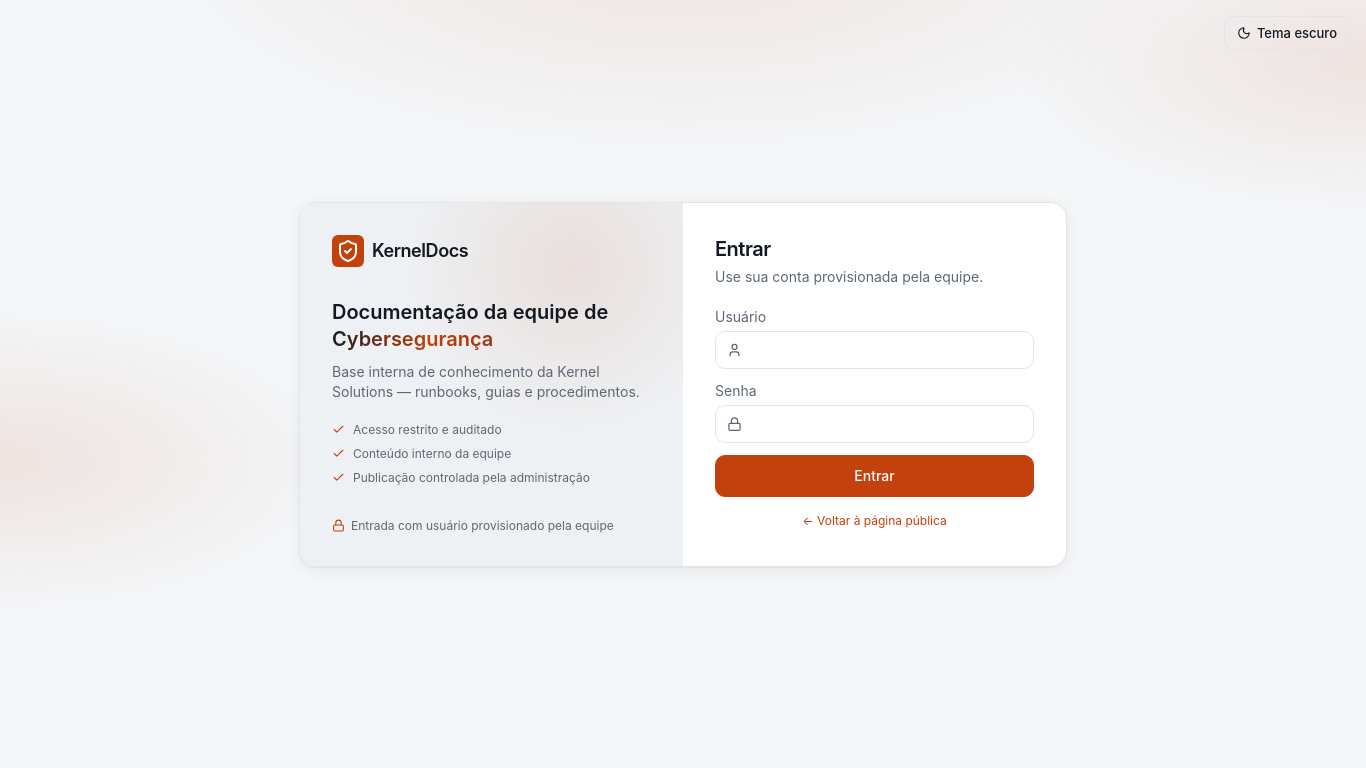
LoginPage › falha de rede vira mensagem amigável
The width and height of the screenshot is (1366, 768).
Type "felipe.rosa" into the field labelled "Usuário".
click(874, 350); type("felipe.rosa")  # box [715,330,1034,368]
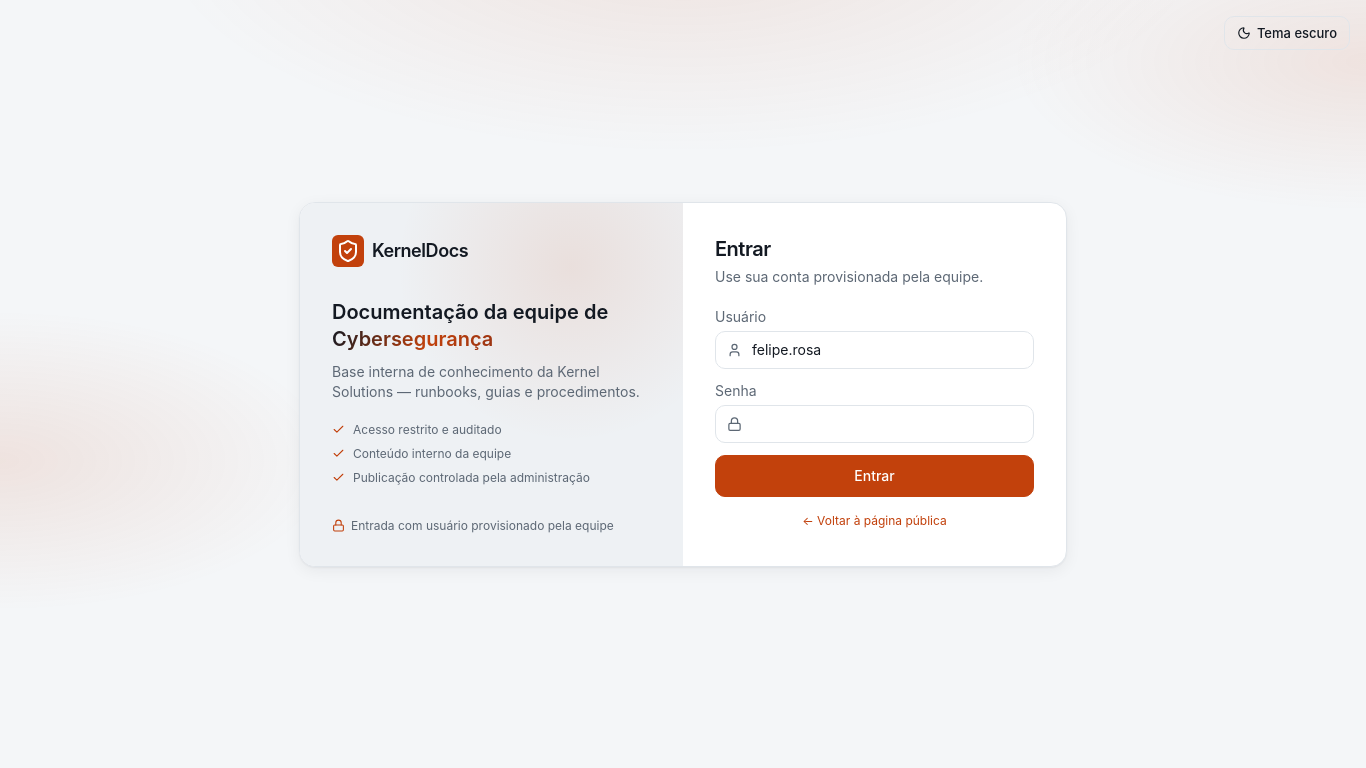
Type "qualquer" into the password field labelled "Senha".
click(874, 424); type("qualquer")  # box [715,404,1034,442]
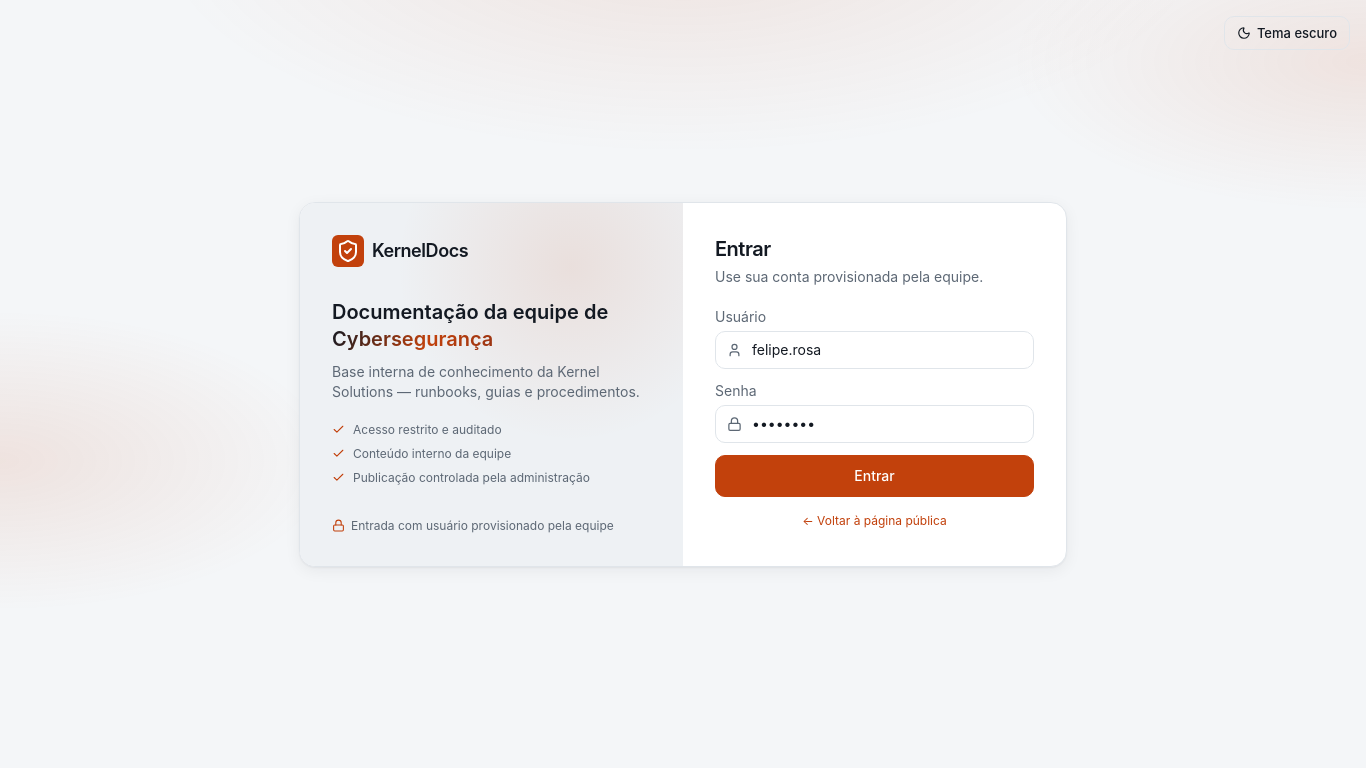
Click the button "Entrar".
click(874, 476)  # box [715,454,1034,496]
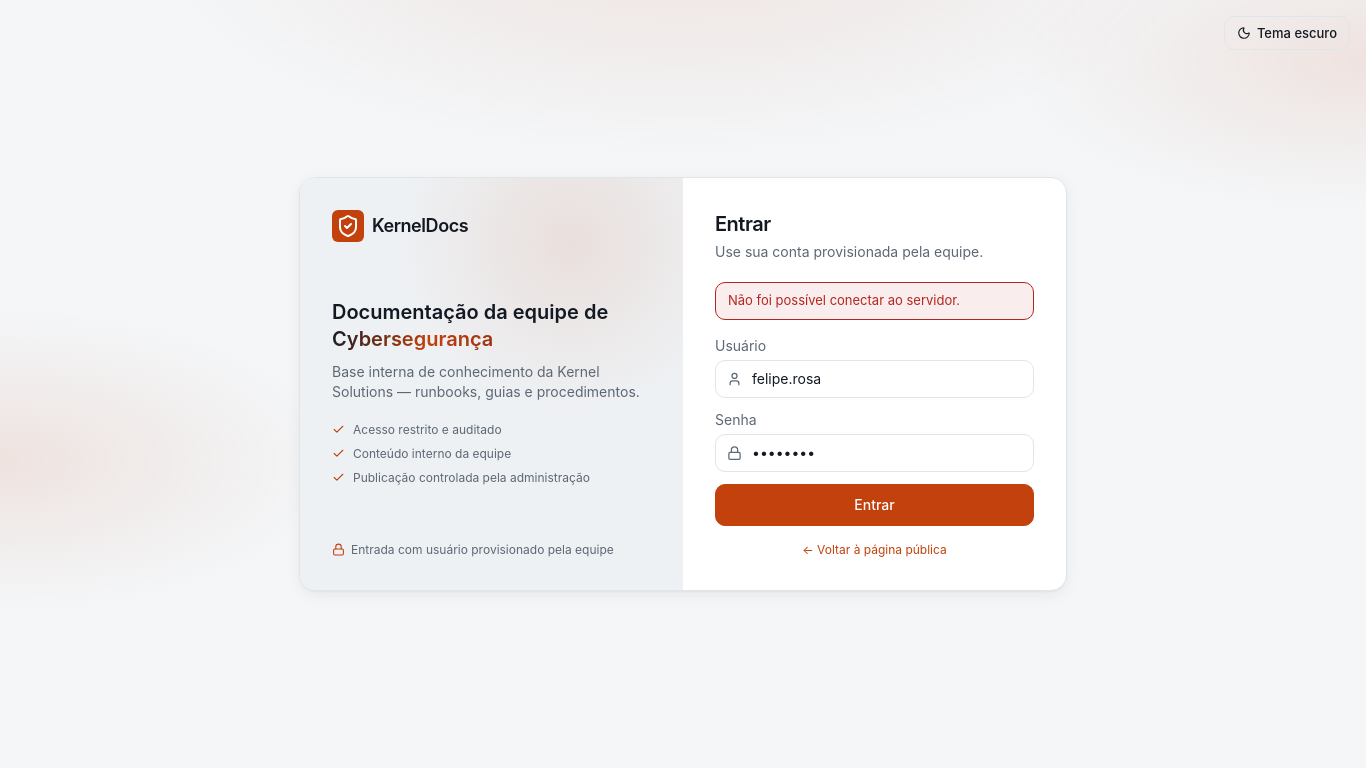
Now the message reads "Não foi possível conectar ao servidor.", box [728,292,960,308]
